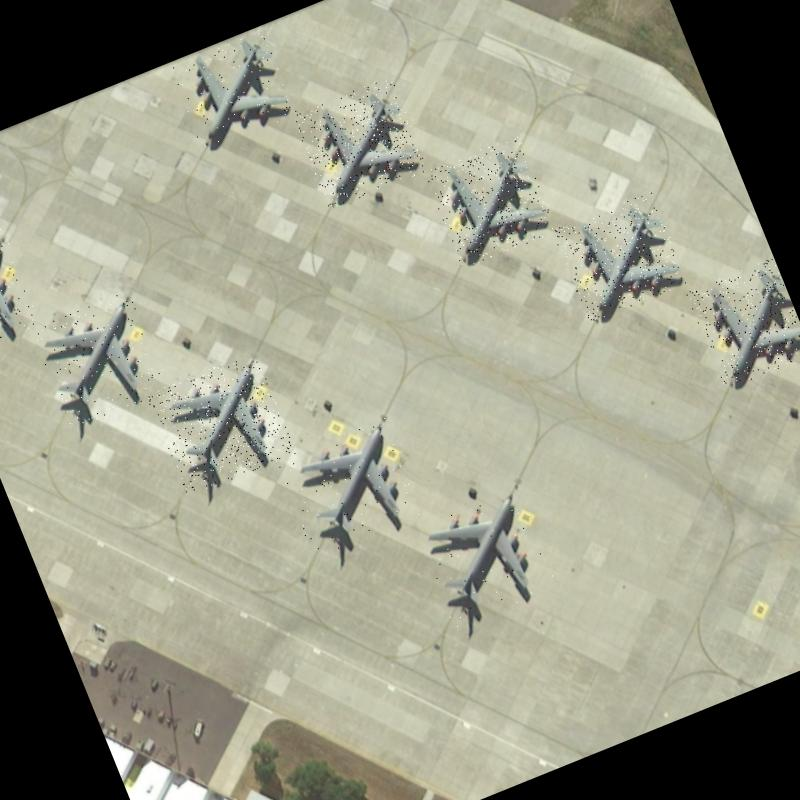A14: (145, 350, 296, 497), (274, 417, 424, 559), (413, 486, 558, 628), (29, 289, 172, 430), (292, 74, 428, 209), (423, 134, 557, 270), (551, 190, 688, 323), (168, 26, 298, 152), (685, 257, 800, 390), (0, 221, 43, 363)
